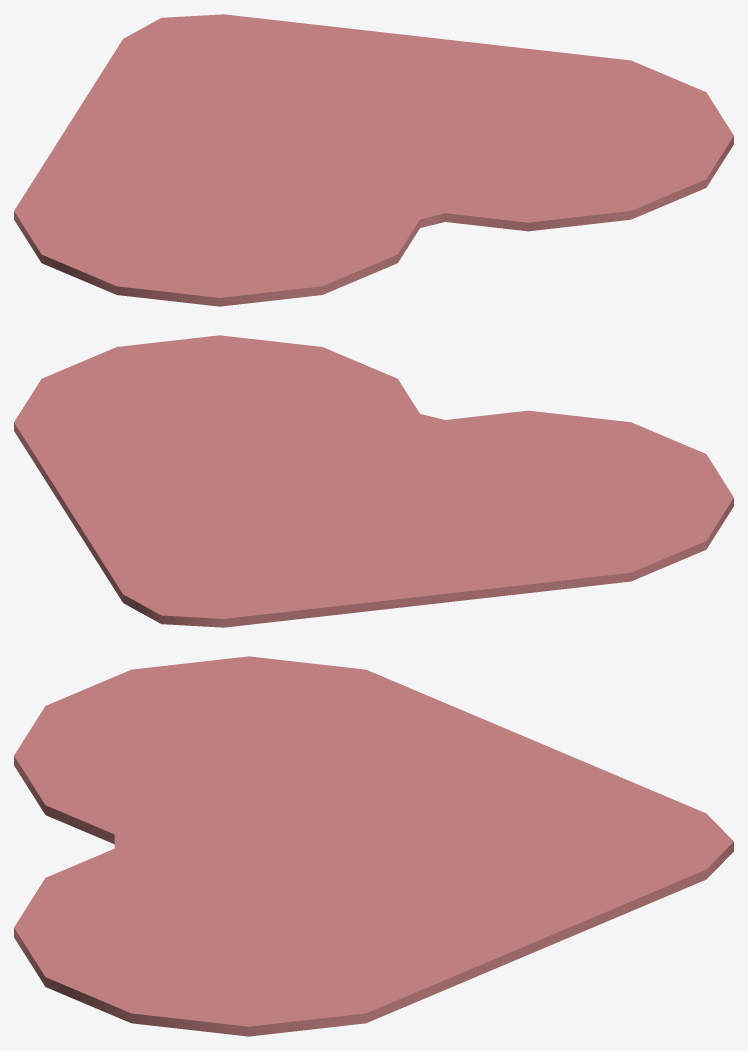
File: carpet-heart.glb
3 renders of one model, top to bottom at view 1: azimuth 30°, elevation 25°; view 2: azimuth 150°, elevation 25°; view 3: azimuth 270°, elevation 25°, orthographic. The views are drawn at different scales.
Visible parts, largest first — view 1: carpet-heart; view 2: carpet-heart; view 3: carpet-heart.
Part boxes in pixels (<box>): carpet-heart: <box>14,14,733,306</box>; carpet-heart: <box>14,335,733,627</box>; carpet-heart: <box>14,656,733,1036</box>.
Size of the model in its own units: 2 by 0.025 by 1.64.
